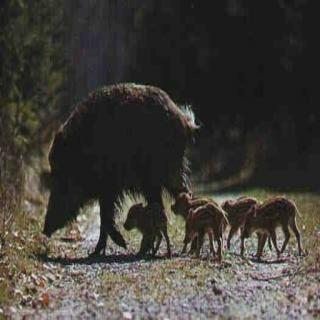Pig: (0, 88, 203, 273), (235, 192, 303, 276), (113, 194, 181, 269), (174, 211, 237, 263)
